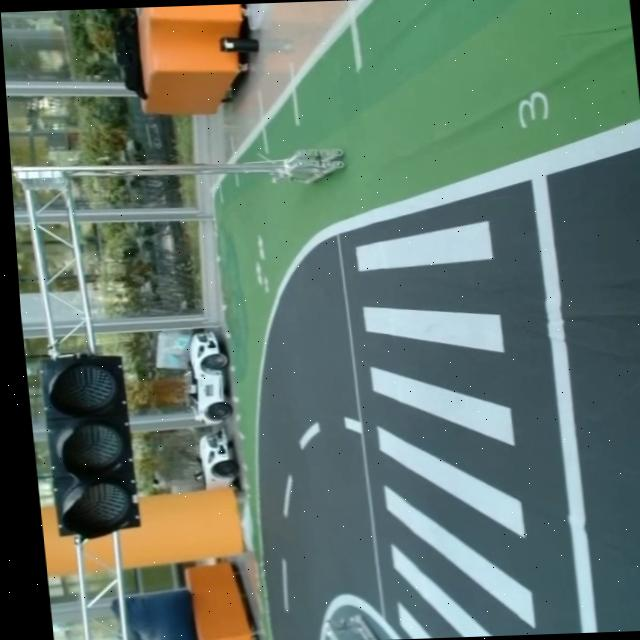traffic-light: (36, 348, 144, 546)
